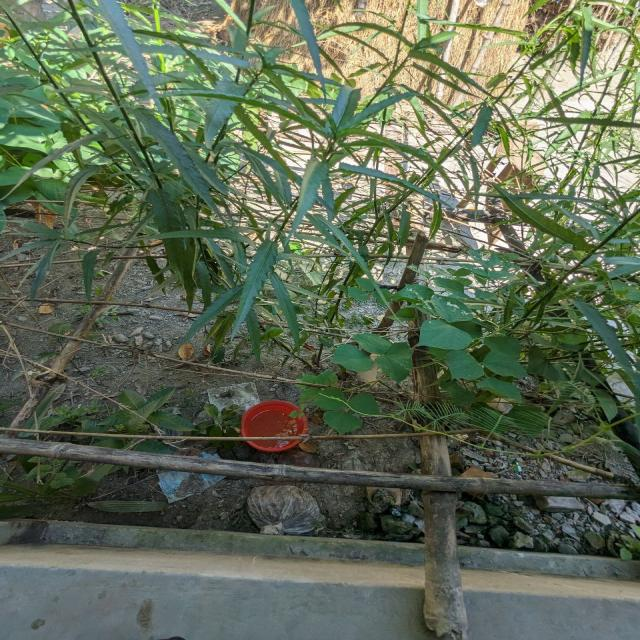Breeding Place: (218, 386, 346, 473), (241, 481, 330, 545), (143, 451, 236, 505), (198, 379, 268, 431)
